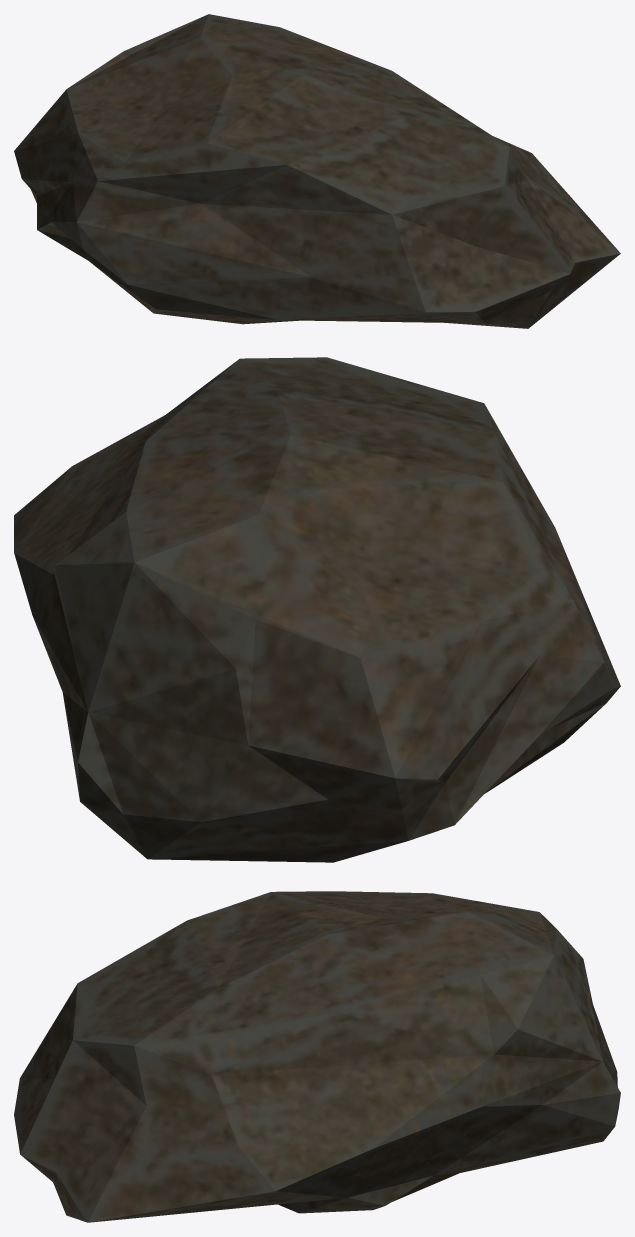
File: piedra_stone_07.glb
3 renders of one model, top to bottom at view 1: azimuth 30°, elevation 25°; view 2: azimuth 150°, elevation 25°; view 3: azimuth 270°, elevation 25°, orthographic. The views are drawn at different scales.
Parts seen in each view (by area): view 1: Stone_07; view 2: Stone_07; view 3: Stone_07.
Part boxes in pixels (x1,y1,x2,y2): Stone_07: (14, 14, 620, 328); Stone_07: (14, 357, 620, 862); Stone_07: (14, 891, 620, 1222).
Size of the model in its own units: 0.9294 by 0.4033 by 1.
Materials: 1 (1 with a texture image).
